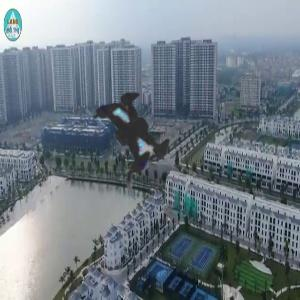drone: (36, 31, 230, 225)
